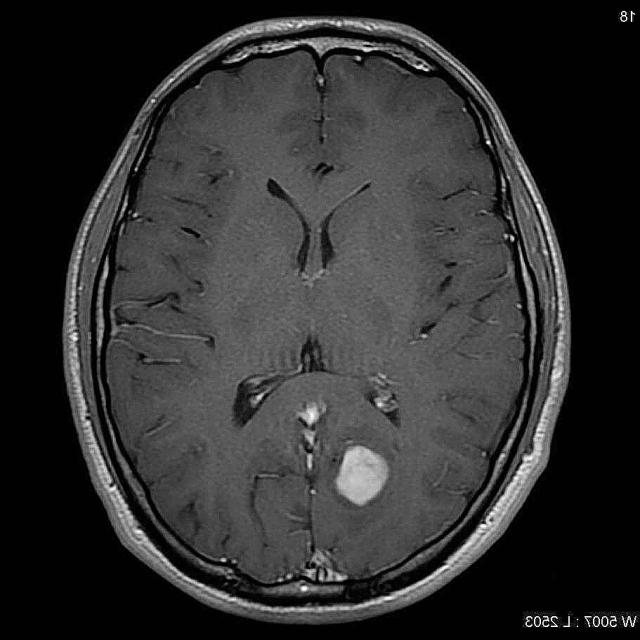Tumor-Cell: (325, 443, 406, 508)
